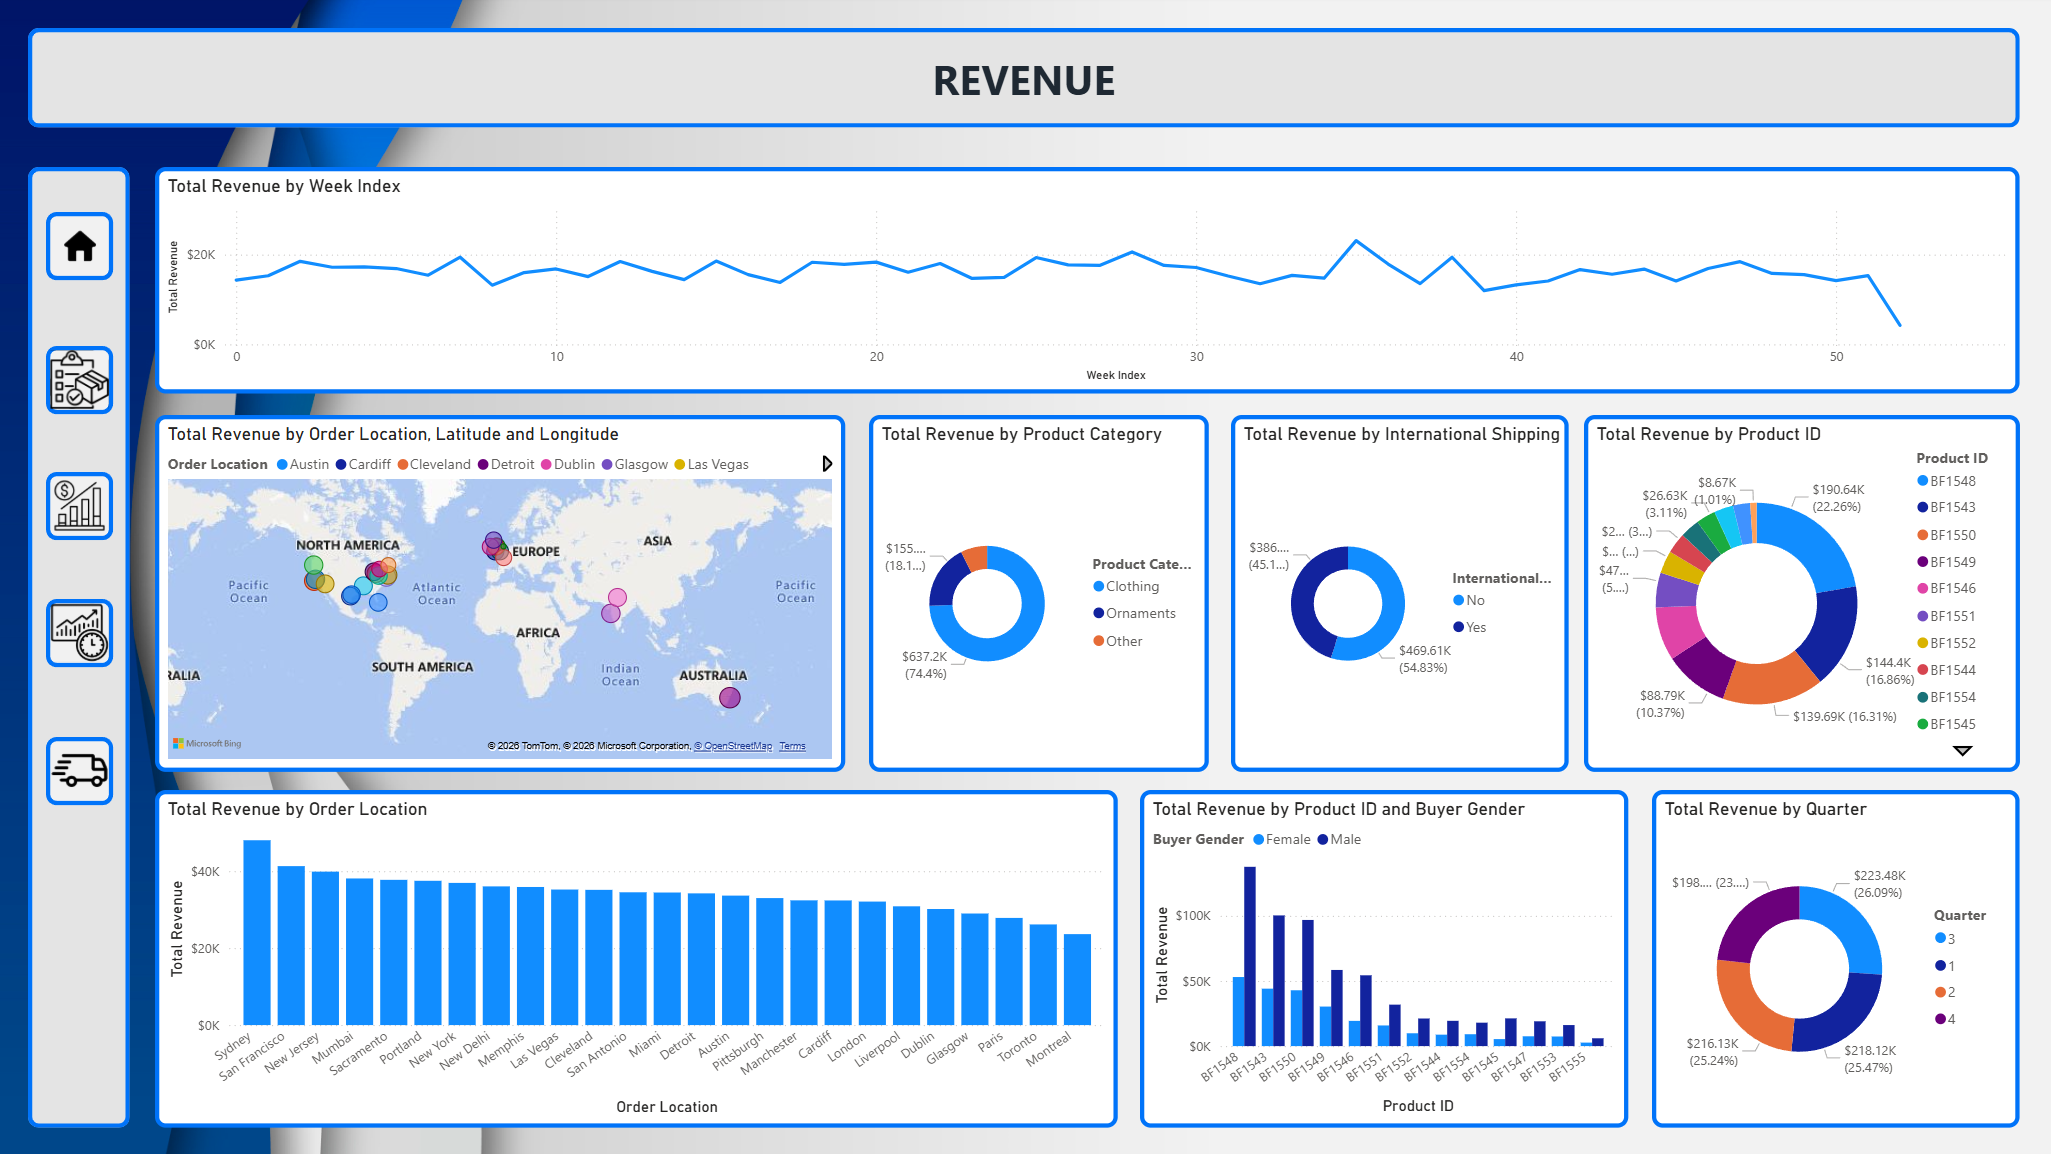

This screenshot's page, from the dashboard's own definition file:
{"tool":"powerbi","page":{"name":"Revenue","canvas":[1920,1080],"ordinal":2},"visuals":[{"type":"shape","box":[27.5,26.5,1864,93.3],"z":0},{"type":"shape","box":[27.5,156.1,95.2,899.1],"z":1000},{"type":"actionButton","box":[44.2,198.3,62.8,63.8],"z":2000},{"type":"actionButton","box":[44.2,323.9,62.8,63.8],"z":3000},{"type":"actionButton","box":[44.2,441.7,62.8,63.8],"z":4000},{"type":"actionButton","box":[44.2,560.5,62.8,63.8],"z":5000},{"type":"actionButton","box":[44.2,690.1,62.8,63.8],"z":6000},{"type":"lineChart","fields":{"Category":["Calendar_454.Week Index","Calendar_454.Date"],"Y":["Sales.Total Revenue"]},"box":[146,156,1745,212],"z":7000},{"type":"map","fields":{"Y":["Sales.Latitude"],"X":["Sales.Longitude"],"Size":["Sales.Total Revenue"],"Series":["Sales.Order Location"]},"box":[146,388,646,334],"z":8000},{"type":"clusteredColumnChart","fields":{"Category":["Sales.Order Location"],"Y":["Sales.Total Revenue"]},"box":[146,739,901,316],"z":9000},{"type":"donutChart","fields":{"Category":["Sales.Product Category"],"Y":["Sales.Total Revenue"]},"box":[814,388,318,334],"z":10000},{"type":"donutChart","fields":{"Y":["Sales.Total Revenue"],"Category":["Sales.International Shipping"]},"box":[1153,388,316,334],"z":11000},{"type":"donutChart","fields":{"Y":["Sales.Total Revenue"],"Category":["Sales.Product ID"]},"box":[1483,388,408,334],"z":12000},{"type":"clusteredColumnChart","fields":{"Category":["Sales.Product ID"],"Y":["Sales.Total Revenue"],"Series":["Sales.Buyer Gender"]},"box":[1068,739,457,316],"z":13000},{"type":"donutChart","fields":{"Y":["Sales.Total Revenue"],"Category":["Calendar_454.Quarter"]},"box":[1547,739,344,316],"z":14000}]}

Visuals, with their boxes in screenshot pixels (x1, y1, x2, y2), scaled from the page's 1920x1080 canvas onto the 2051x1154 screenshot:
shape: x1=29 y1=28 x2=2021 y2=128
shape: x1=29 y1=167 x2=131 y2=1128
actionButton: x1=47 y1=212 x2=114 y2=280
actionButton: x1=47 y1=346 x2=114 y2=414
actionButton: x1=47 y1=472 x2=114 y2=540
actionButton: x1=47 y1=599 x2=114 y2=667
actionButton: x1=47 y1=737 x2=114 y2=806
lineChart - Calendar_454.Week Index x Calendar_454.Date: x1=156 y1=167 x2=2020 y2=393
map - Sales.Latitude x Sales.Longitude: x1=156 y1=415 x2=846 y2=771
clusteredColumnChart - Sales.Order Location x Sales.Total Revenue: x1=156 y1=790 x2=1118 y2=1127
donutChart - Sales.Product Category x Sales.Total Revenue: x1=870 y1=415 x2=1209 y2=771
donutChart - Sales.Total Revenue x Sales.International Shipping: x1=1232 y1=415 x2=1569 y2=771
donutChart - Sales.Total Revenue x Sales.Product ID: x1=1584 y1=415 x2=2020 y2=771
clusteredColumnChart - Sales.Product ID x Sales.Total Revenue: x1=1141 y1=790 x2=1629 y2=1127
donutChart - Sales.Total Revenue x Calendar_454.Quarter: x1=1653 y1=790 x2=2020 y2=1127
